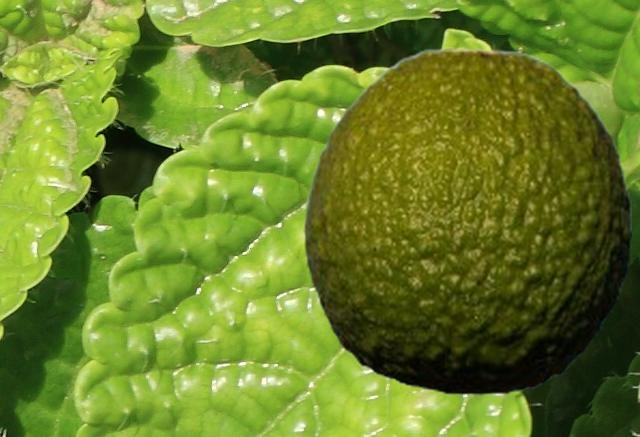avocado: (303, 47, 630, 394)
